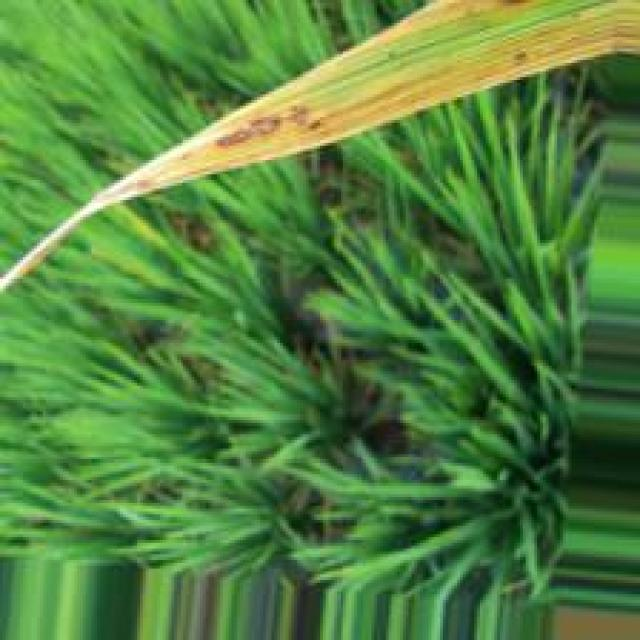Bacterial_Leaf_Blight: (103, 0, 640, 202)
